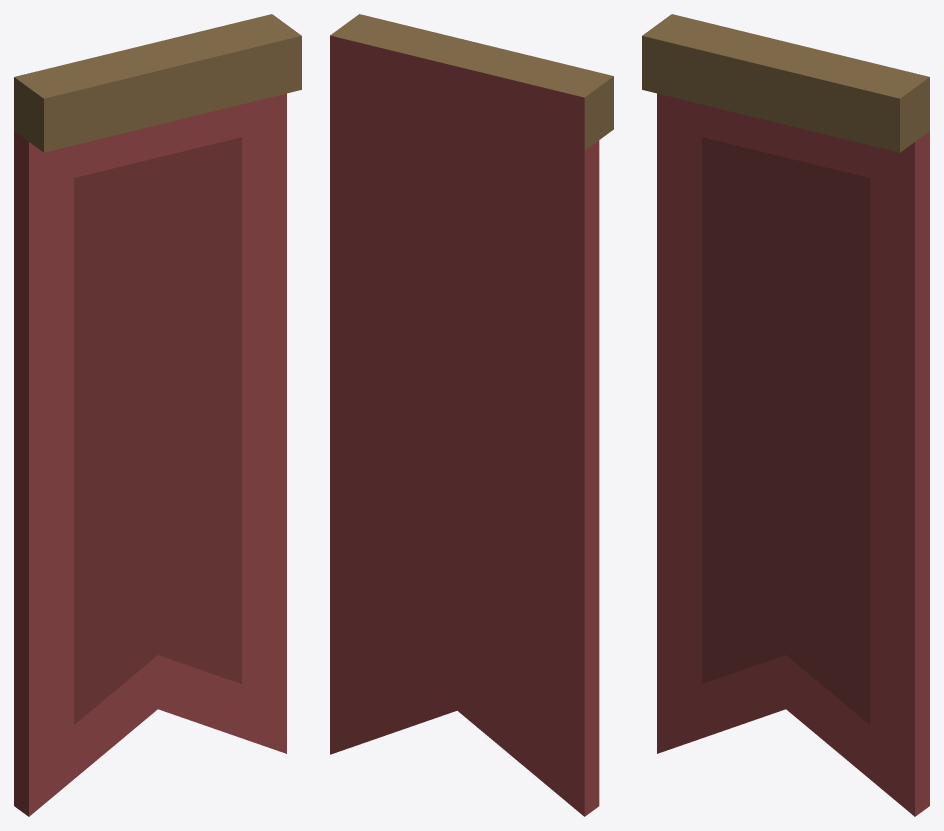
The model's file is Banner_01.obj.
3 views of the same model, side by side, from view 1: azimuth 30°, elevation 25°; view 2: azimuth 150°, elevation 25°; view 3: azimuth 330°, elevation 25° (orthographic).
Parts seen in each view (by area): view 1: Mesh1_Banner_Model; view 2: Mesh1_Banner_Model; view 3: Mesh1_Banner_Model.
Part boxes in pixels (left/top/right/bottom): Mesh1_Banner_Model: left=14, top=14, right=301, bottom=816; Mesh1_Banner_Model: left=330, top=14, right=613, bottom=816; Mesh1_Banner_Model: left=642, top=14, right=929, bottom=816.
Size of the model in its own units: 1 by 2.7 by 0.2.
